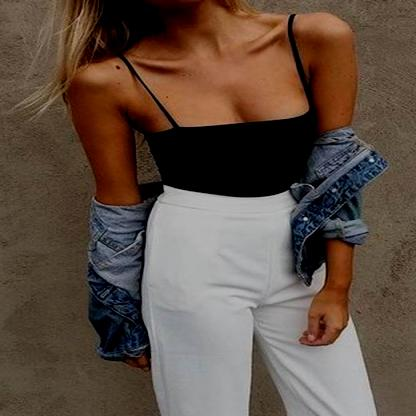dress: (142, 179, 378, 416)
jacket: (120, 13, 339, 189)
